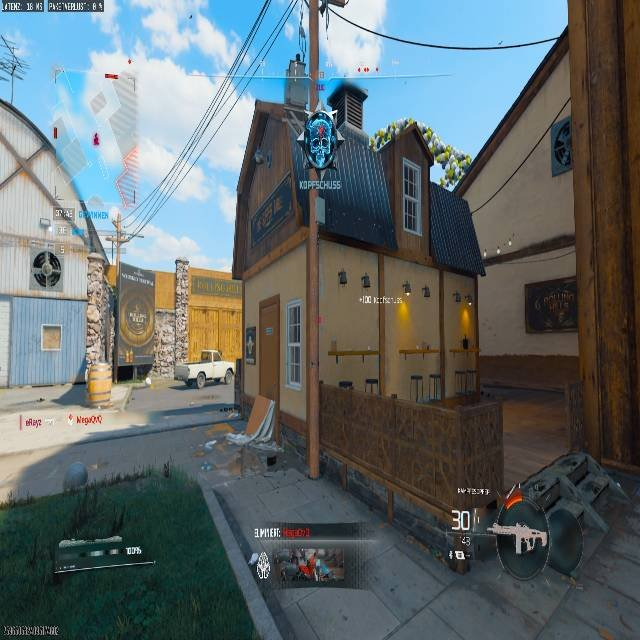player: (309, 79, 473, 193)
